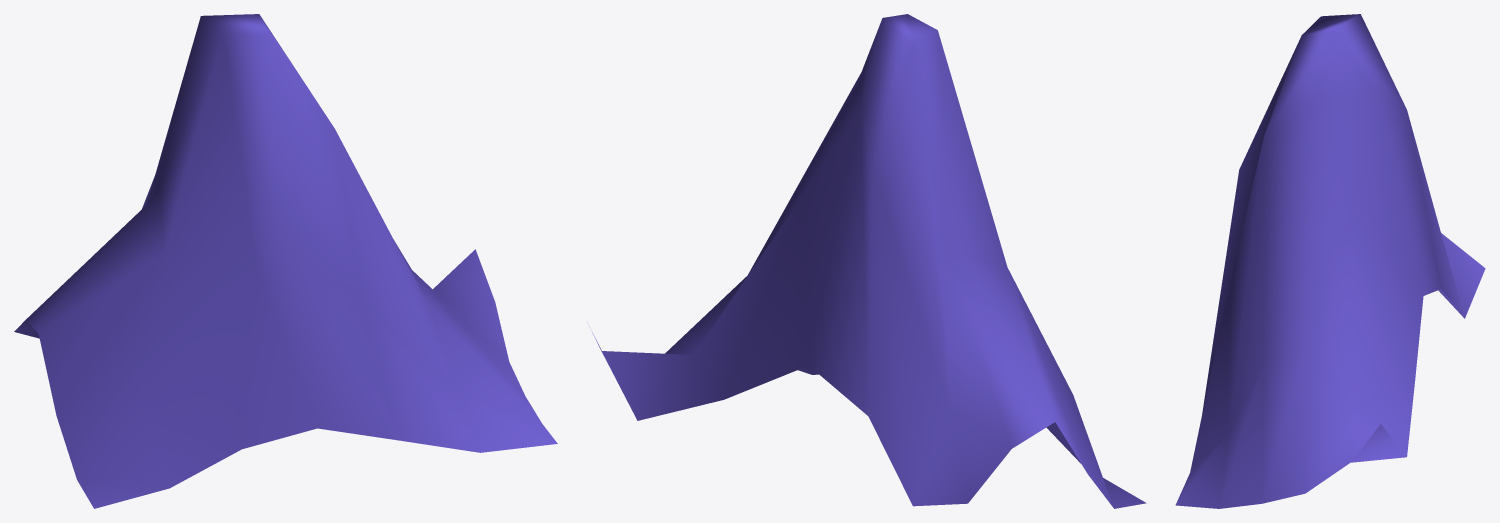
Rendered from BossRock.fbx.
3 renders of one model, left to right at view 1: azimuth 30°, elevation 25°; view 2: azimuth 150°, elevation 25°; view 3: azimuth 270°, elevation 25°, orthographic. The views are drawn at different scales.
Parts seen in each view (by area): view 1: polySurface11; view 2: polySurface11; view 3: polySurface11.
Part boxes in pixels (x1,y1,x2,y2): polySurface11: (14, 14, 557, 508); polySurface11: (592, 14, 1146, 508); polySurface11: (1175, 14, 1485, 508).
Size of the model in its own units: 4287 by 3824 by 2826.
